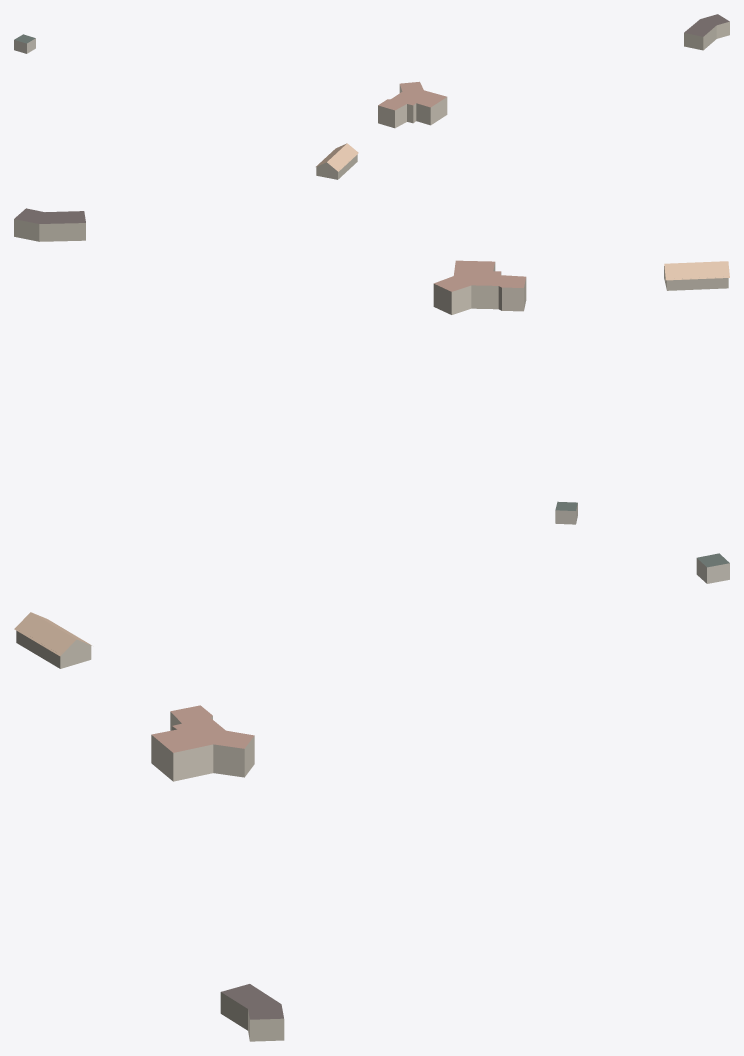
3 views of the same model, one above another, from view 1: azimuth 30°, elevation 25°; view 2: azimuth 150°, elevation 25°; view 3: azimuth 270°, elevation 25° (orthographic). The views are drawn at different scales.
Visible parts, largest first — view 1: tuile; view 2: tuile; view 3: tuile.
Boxes of the visible parts, <box> form: tuile: <box>14,14,729,179</box>; tuile: <box>14,208,729,524</box>; tuile: <box>14,553,729,1041</box>.
Bounding box in the file's own units: 239 × 15.28 × 163.
